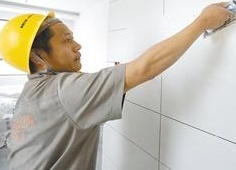hard-hat: (0, 8, 55, 74)
